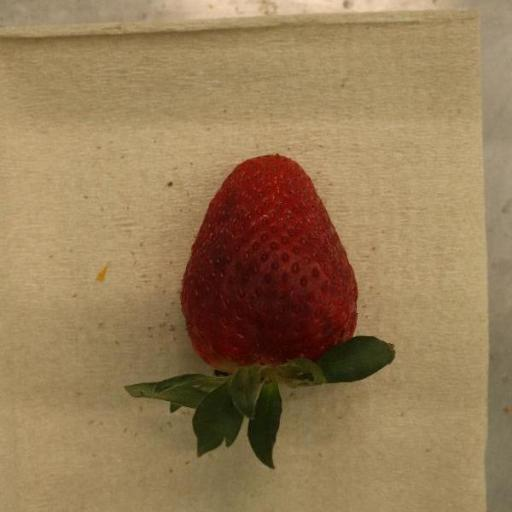Strawberry: (130, 154, 395, 469)
